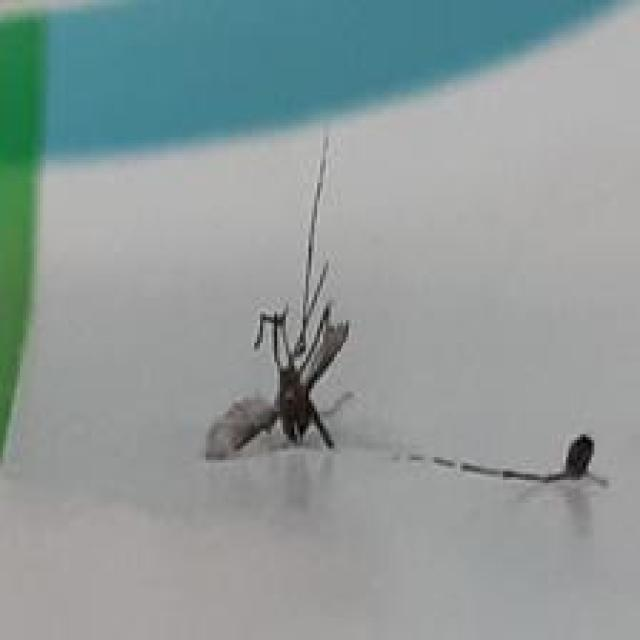Aedes albopictus: (403, 433, 608, 487)
